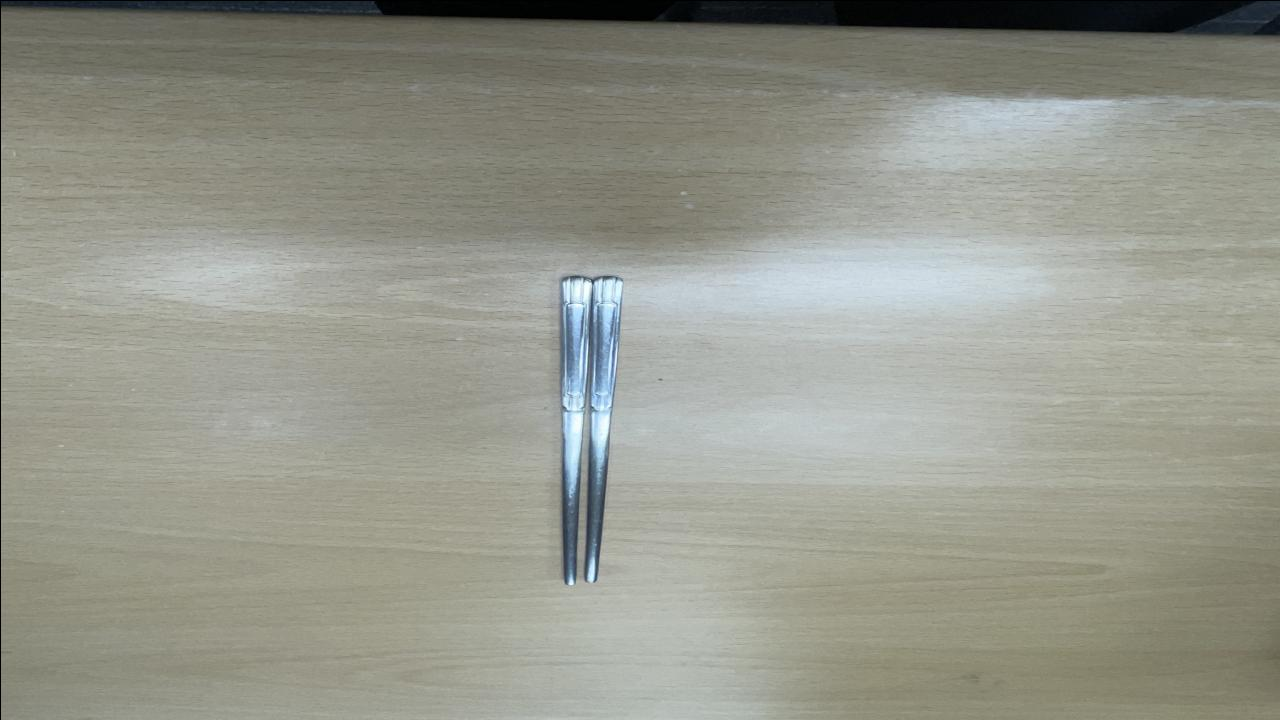chopstick: (558, 276, 618, 586)
